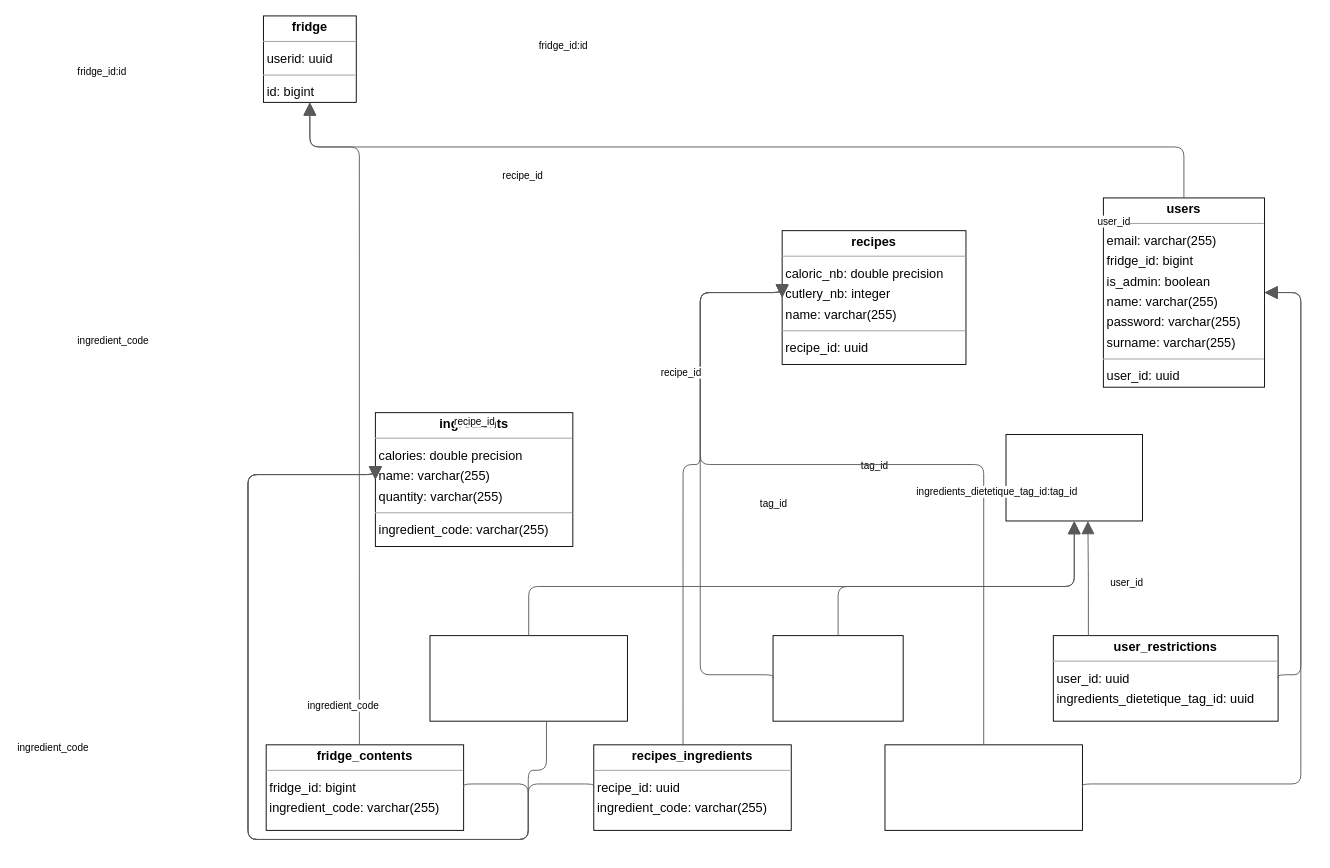
Image size: 1330x868. Some labels were removed from this diagram. The shapes that lost their labels are listed below. From the top down, each one's centre as x and y in pixels, then its label:
point (1074, 477): tags name: varchar(255) tag_id: uuid
point (528, 678): ingredient_tags ingredient_code: varchar(255) tag_id: uuid
point (837, 678): recipes_tags recipe_id: uuid tag_id: uuid
point (983, 787): user_favorite_recipes user_id: uuid recipe_id: uuid
